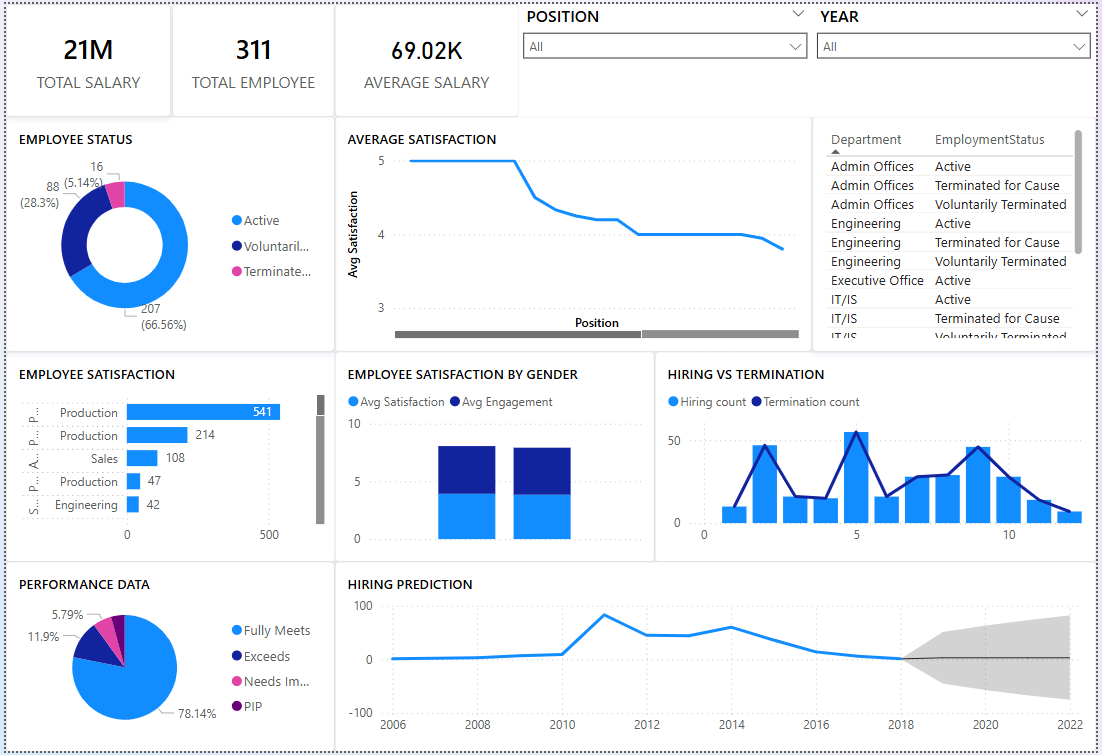

Layout of this report page (visuals, bound fields, positions):
{"tool":"powerbi","page":{"name":"Page 1","canvas":[1090,747],"ordinal":0},"visuals":[{"type":"card","fields":{"Values":["HRData.Total_Employee"]},"box":[166.2,0,162.5,112.5],"z":0},{"type":"card","fields":{"Values":["HRData.Average Salary"]},"box":[328.8,0,183.8,112.5],"z":1000},{"type":"clusteredBarChart","title":"EMPLOYEE SATISFACTION","fields":{"Category":["HRData.Position","HRData.Department"],"Y":["Sum(HRData.EmployeeSatisfaction)"]},"box":[0,347.5,331.2,210],"z":2000},{"type":"pieChart","title":"PERFORMANCE DATA","fields":{"Category":["HRData.PerformanceScore"],"Y":["CountNonNull(HRData.PerformanceScore)"]},"box":[0,557.5,328.8,190],"z":3000},{"type":"lineChart","title":"AVERAGE SATISFACTION","fields":{"Category":["HRData.Position"],"Y":["HRData.Avg Satisfaction"]},"box":[328.8,112.5,477.5,235],"z":4000},{"type":"columnChart","title":"EMPLOYEE SATISFACTION BY GENDER","fields":{"Category":["HRData.Gender"],"Y":["HRData.Avg Satisfaction","HRData.Avg Engagement"]},"box":[328.8,347.5,320,210],"z":5000},{"type":"lineStackedColumnComboChart","title":"HIRING VS TERMINATION","fields":{"Category":["HRData.Month No."],"Y":["CountNonNull(HRData.HiringDate)"],"Y2":["CountNonNull(HRData.TerminationDate)"]},"box":[648.8,347.5,441.2,210],"z":6000},{"type":"donutChart","title":"EMPLOYEE STATUS","fields":{"Category":["HRData.EmploymentStatus"],"Y":["CountNonNull(HRData.EmployeeID)"]},"box":[0,112.5,328.8,235],"z":7000},{"type":"tableEx","fields":{"Values":["HRData.Department","HRData.EmploymentStatus"]},"box":[806.2,112.5,283.8,235],"z":8000},{"type":"lineChart","title":"HIRING PREDICTION","fields":{"Y":["CountNonNull(HRData.HiringDate)"],"Category":["HRData.HiringDate.Variation.Date Hierarchy.Year"]},"box":[328.8,557.5,761.2,190],"z":9000},{"type":"slicer","fields":{"Values":["HRData.year","HRData.Month No."]},"box":[806.2,0,283.8,112.5],"z":10000},{"type":"card","fields":{"Values":["Sum(HRData.Salary)"]},"box":[0,0,165,112.5],"z":11000},{"type":"slicer","fields":{"Values":["HRData.Position"]},"box":[512.5,0,293.8,112.5],"z":12000}]}

Visuals, with their boxes in screenshot pixels (x1, y1, x2, y2), scaled from the page's 1090x747 canvas onto the 1102x755 screenshot:
card - HRData.Total_Employee: locate(168, 0, 332, 114)
card - HRData.Average Salary: locate(332, 0, 518, 114)
"EMPLOYEE SATISFACTION" clusteredBarChart: locate(0, 351, 335, 563)
"PERFORMANCE DATA" pieChart: locate(0, 563, 332, 754)
"AVERAGE SATISFACTION" lineChart: locate(332, 114, 815, 351)
"EMPLOYEE SATISFACTION BY GENDER" columnChart: locate(332, 351, 656, 563)
"HIRING VS TERMINATION" lineStackedColumnComboChart: locate(656, 351, 1101, 563)
"EMPLOYEE STATUS" donutChart: locate(0, 114, 332, 351)
tableEx - HRData.Department x HRData.EmploymentStatus: locate(815, 114, 1101, 351)
"HIRING PREDICTION" lineChart: locate(332, 563, 1101, 754)
slicer - HRData.year x HRData.Month No.: locate(815, 0, 1101, 114)
card - Sum(HRData.Salary): locate(0, 0, 167, 114)
slicer - HRData.Position: locate(518, 0, 815, 114)
